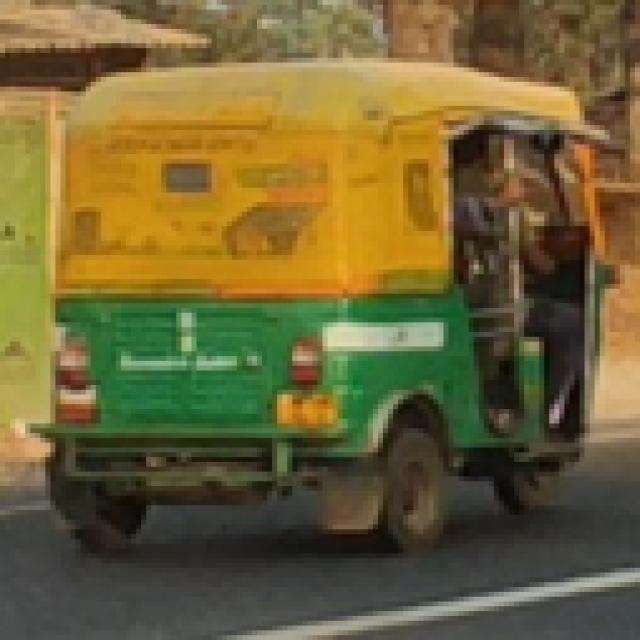autorickshaw: (21, 66, 620, 569)
